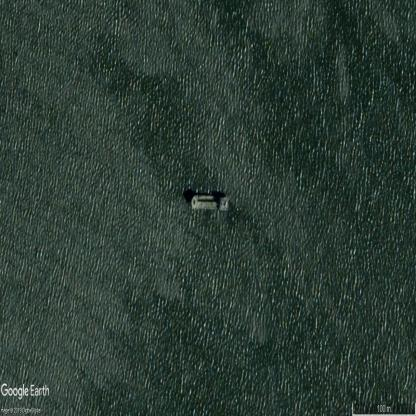ship: (191, 194, 228, 212)
